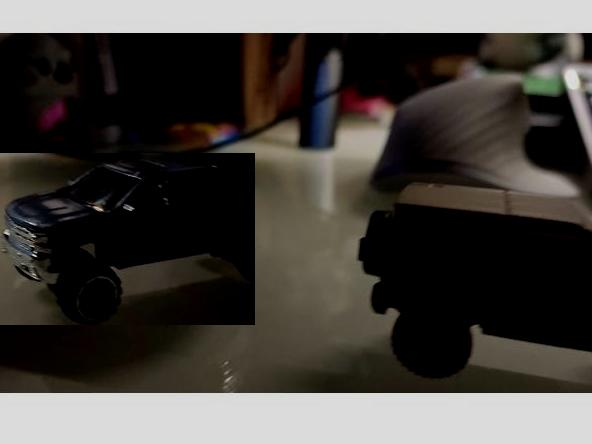toy-car: (358, 179, 592, 379), (0, 153, 255, 325)
